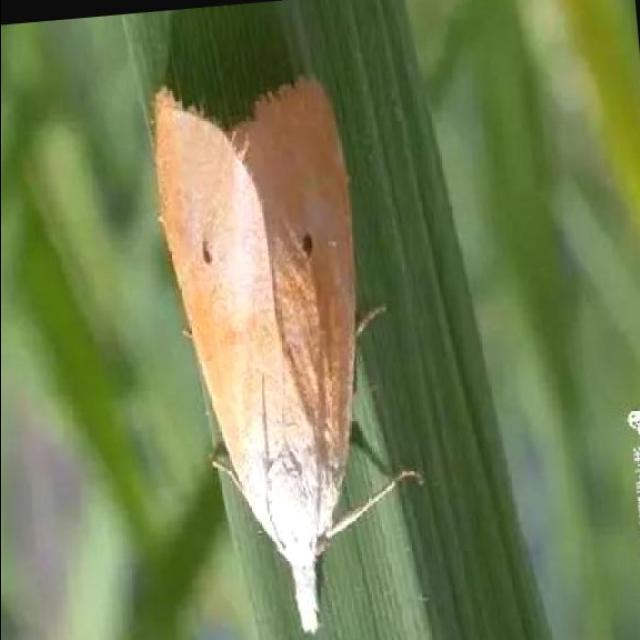stem borer: (151, 79, 418, 632)
